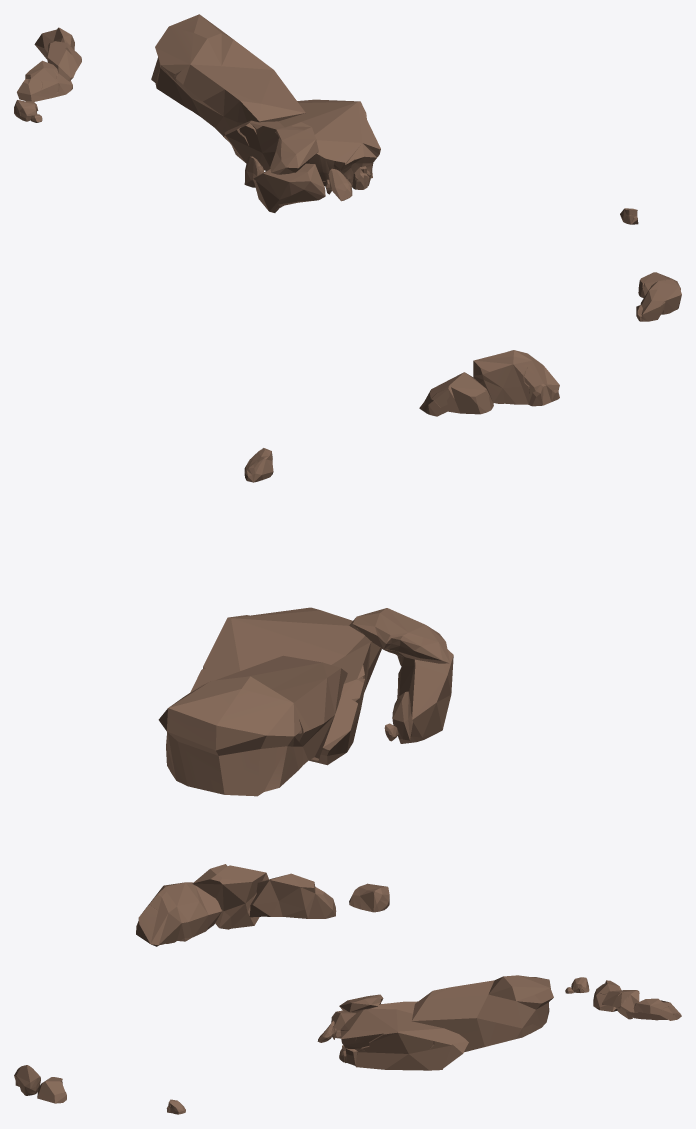
Rendered from Desert_Rock_C.fbx.
The picture shows the model from 3 angles, top to bottom: view 1: azimuth 30°, elevation 25°; view 2: azimuth 150°, elevation 25°; view 3: azimuth 270°, elevation 25°; orthographic projection. The views are drawn at different scales.
Visible parts, largest first — view 1: Desert_Rock_C, Desert_Rock_C.001, Desert_Rock_C.002, Desert_Rock_C.004, Desert_Rock_C.005, Desert_Rock_C.006, Desert_Rock_C.003, Desert_Rock_C.007, Desert_Rock_C.008; view 2: Desert_Rock_C, Desert_Rock_C.001, Desert_Rock_C.002, Desert_Rock_C.004, Desert_Rock_C.007, Desert_Rock_C.005, Desert_Rock_C.006, Desert_Rock_C.008; view 3: Desert_Rock_C, Desert_Rock_C.001, Desert_Rock_C.004, Desert_Rock_C.002, Desert_Rock_C.007, Desert_Rock_C.006, Desert_Rock_C.005, Desert_Rock_C.008.
Part boxes in pixels (x1,y1,x2,y2): Desert_Rock_C: (151, 14, 305, 141); Desert_Rock_C.001: (223, 99, 380, 189); Desert_Rock_C.002: (244, 122, 325, 212); Desert_Rock_C.004: (636, 272, 681, 321); Desert_Rock_C.005: (17, 60, 72, 101); Desert_Rock_C.006: (47, 41, 81, 81); Desert_Rock_C.003: (325, 168, 352, 201); Desert_Rock_C.007: (34, 27, 74, 62); Desert_Rock_C.008: (14, 100, 42, 122); Desert_Rock_C: (158, 655, 347, 796); Desert_Rock_C.001: (190, 607, 381, 765); Desert_Rock_C.002: (349, 608, 453, 743); Desert_Rock_C.004: (419, 350, 559, 416); Desert_Rock_C.007: (136, 882, 221, 946); Desert_Rock_C.005: (249, 873, 336, 918); Desert_Rock_C.006: (192, 864, 268, 929); Desert_Rock_C.008: (349, 883, 389, 912); Desert_Rock_C: (412, 975, 553, 1052); Desert_Rock_C.001: (339, 1001, 468, 1070); Desert_Rock_C.004: (14, 1065, 66, 1103); Desert_Rock_C.002: (331, 994, 383, 1038); Desert_Rock_C.007: (632, 998, 681, 1020); Desert_Rock_C.006: (602, 990, 639, 1019); Desert_Rock_C.005: (593, 980, 621, 1011); Desert_Rock_C.008: (565, 977, 589, 993).
Bounding box in the file's own units: 4514 × 1238 × 9584.
